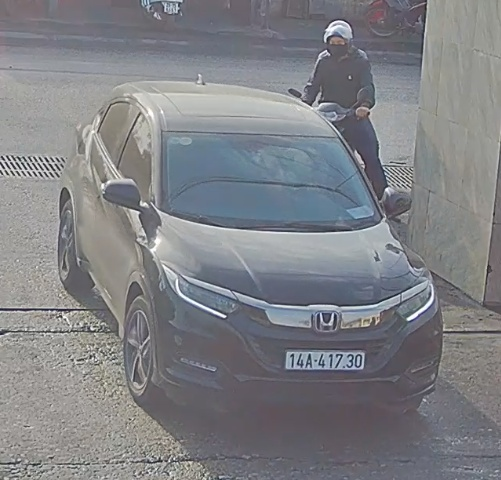vehicle plate: (283, 346, 372, 375)
